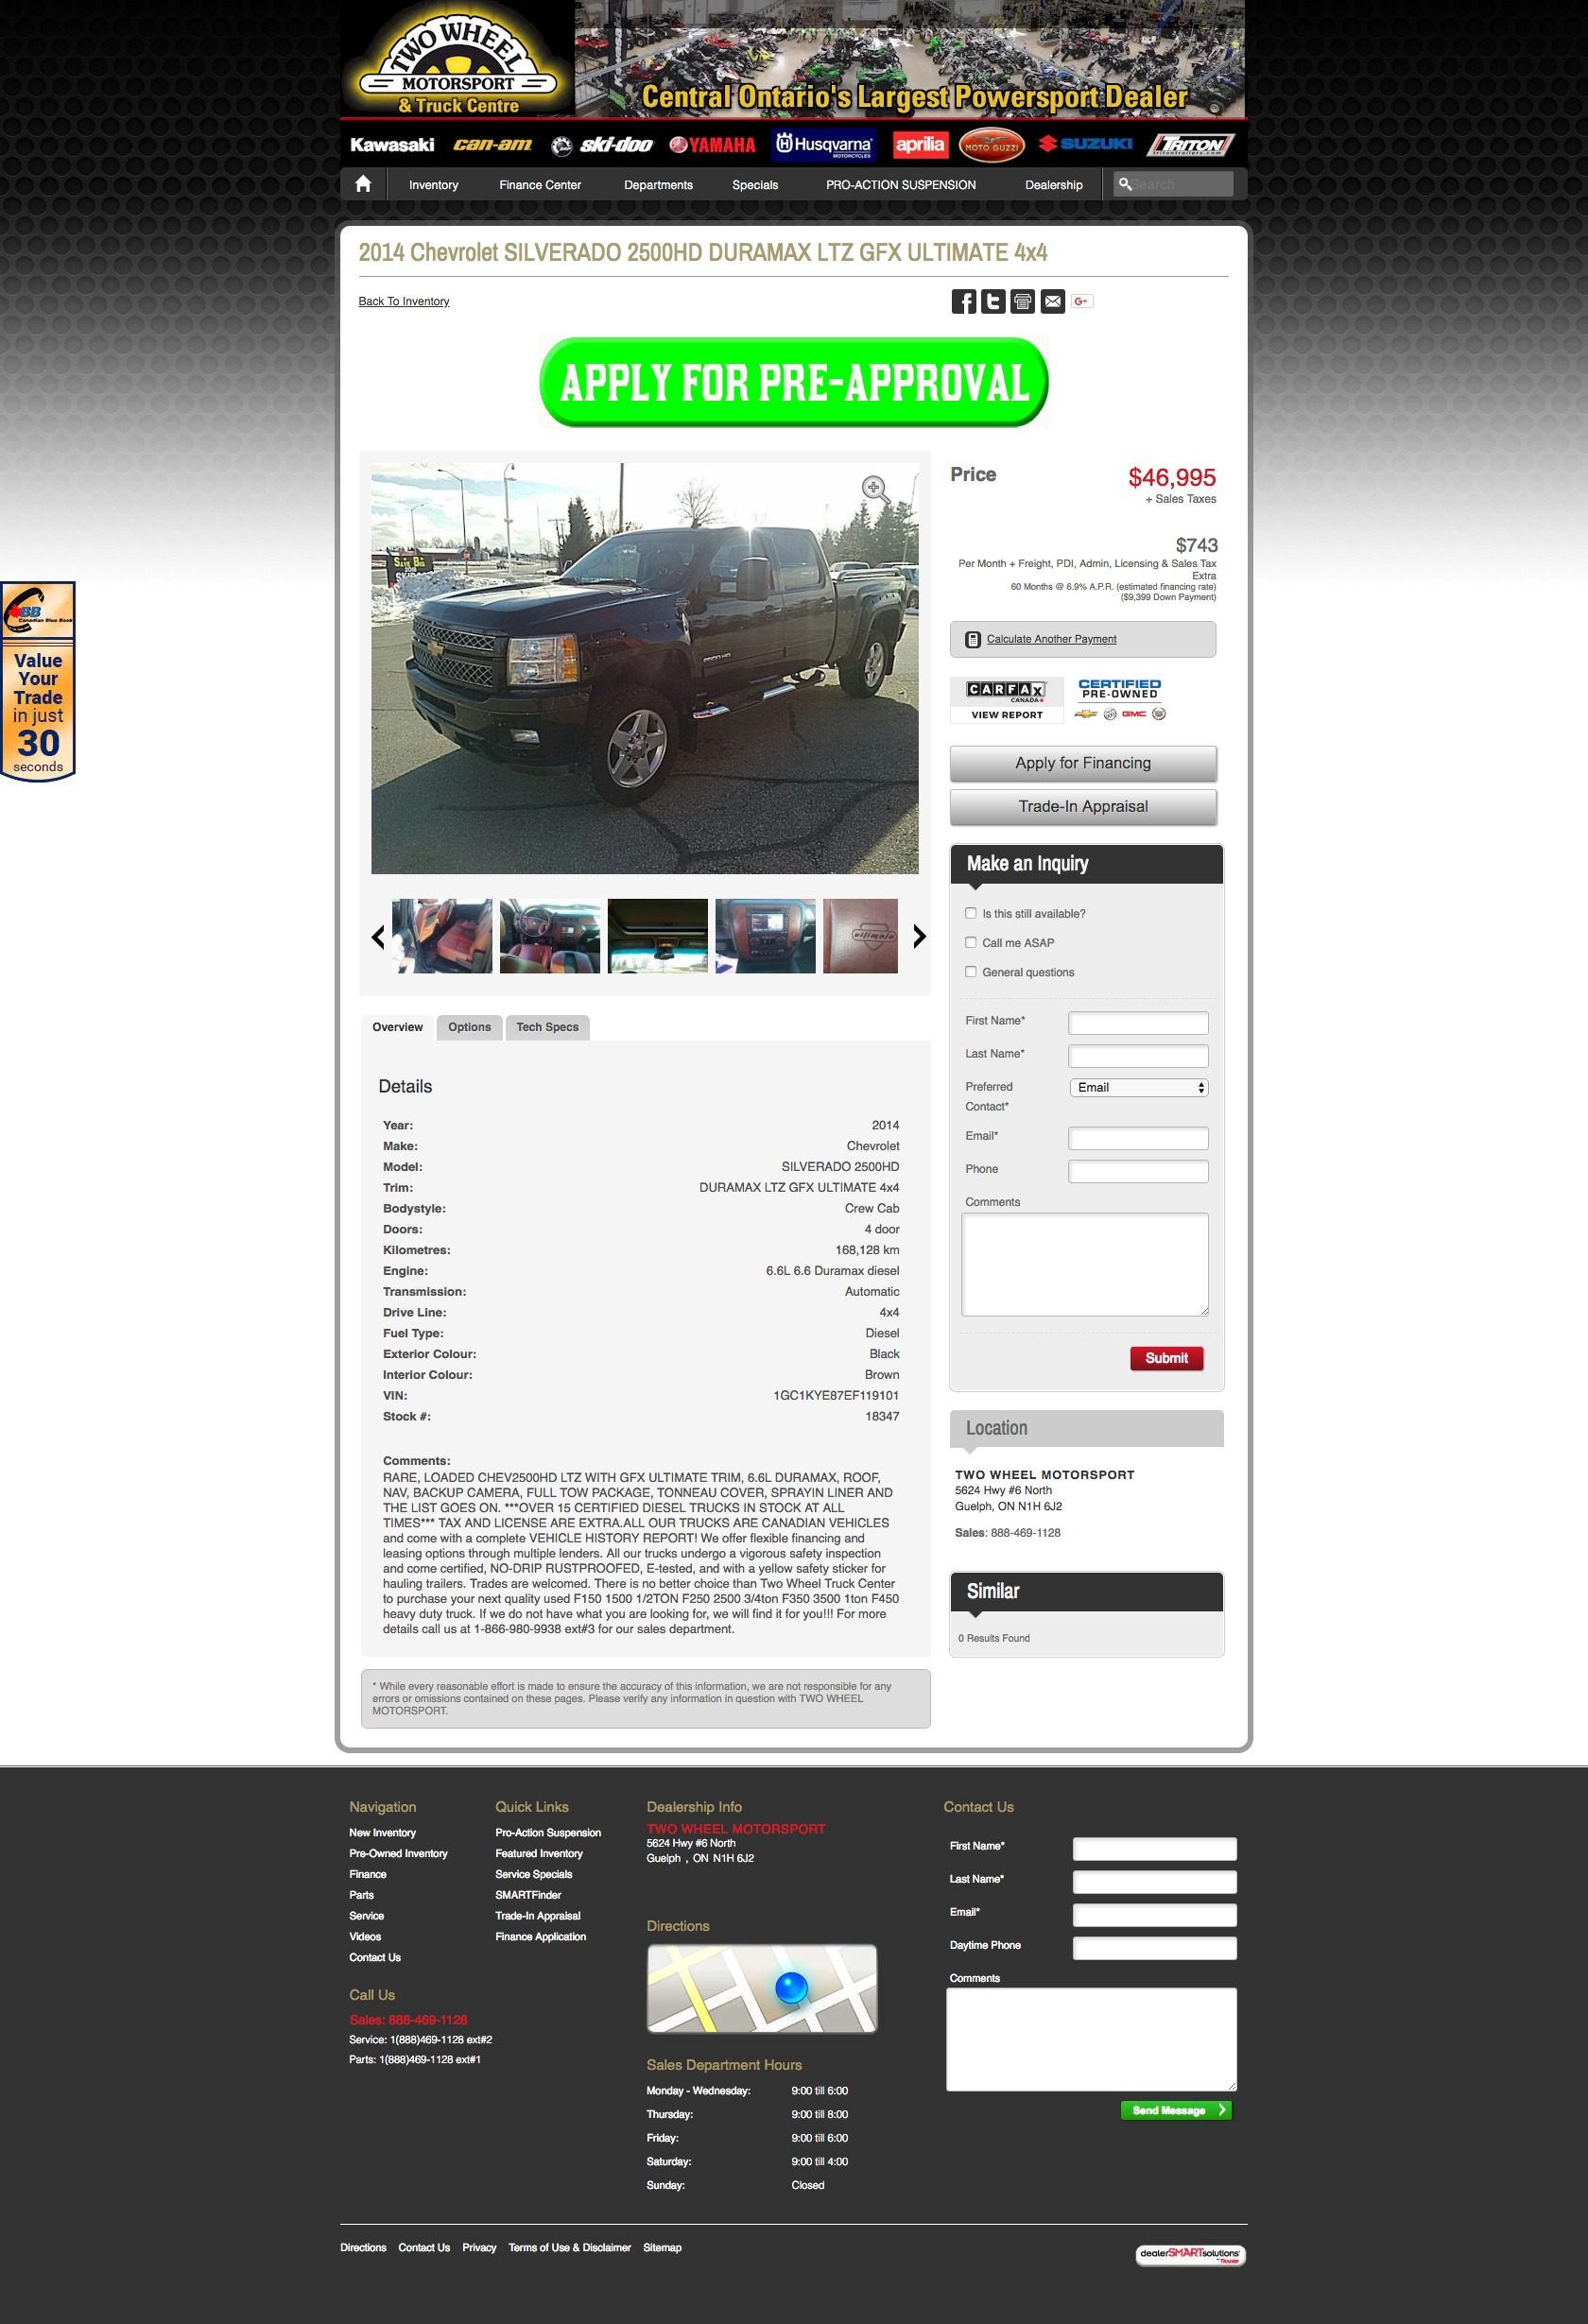car: (913, 924, 927, 950)
